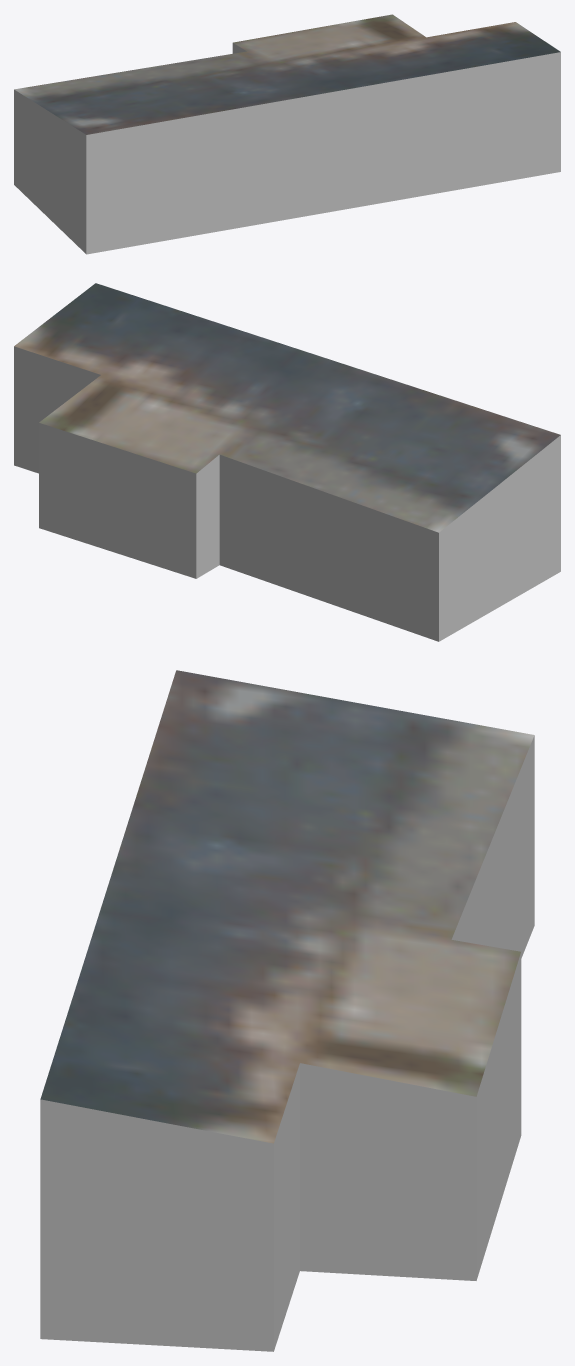
File: DEBW_0010007Tx4B.gltf
The picture shows the model from 3 angles, top to bottom: view 1: azimuth 30°, elevation 25°; view 2: azimuth 150°, elevation 25°; view 3: azimuth 270°, elevation 25°; orthographic projection. The views are drawn at different scales.
Parts seen in each view (by area): view 1: Z_UP; view 2: Z_UP; view 3: Z_UP.
Part boxes in pixels (x1,y1,x2,y2): Z_UP: (14,14,560,254); Z_UP: (14,283,560,641); Z_UP: (40,670,534,1351).
Size of the model in its own units: 18.04 by 4.55 by 8.51.
Materials: 2 (1 with a texture image).
